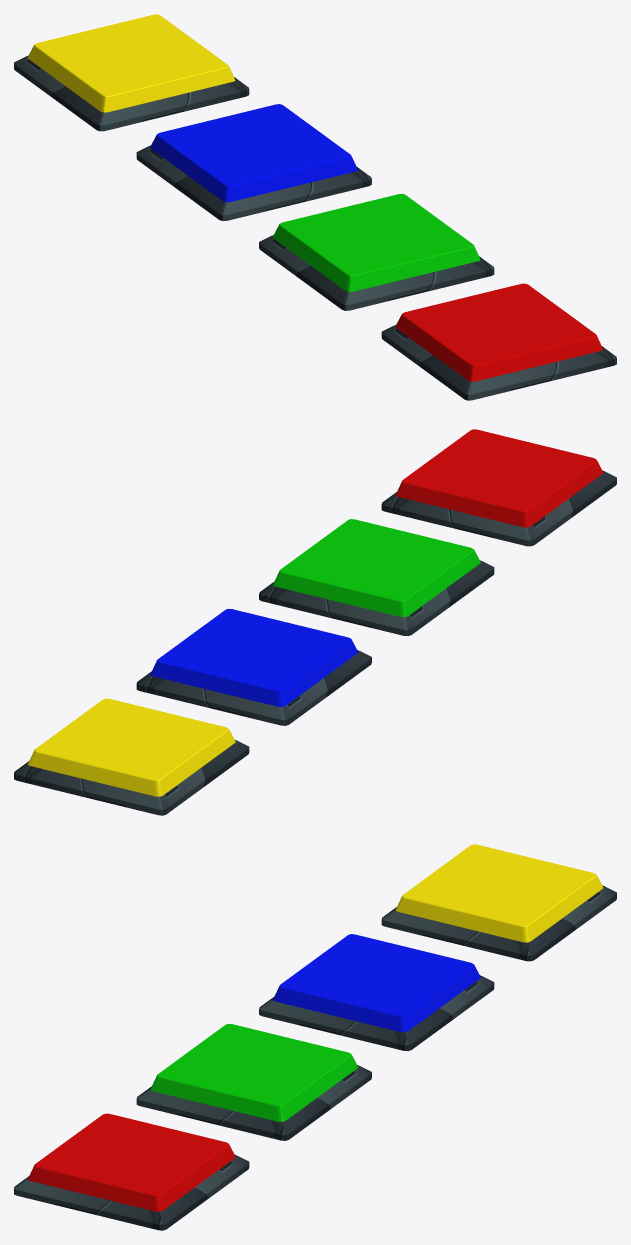
Rendered from Small blocks.fbx.
The picture shows the model from 3 angles, top to bottom: view 1: azimuth 30°, elevation 25°; view 2: azimuth 150°, elevation 25°; view 3: azimuth 330°, elevation 25°; orthographic projection.
Parts seen in each view (by area): view 1: Yellow_block, Green_block, Red_block, Blue_block; view 2: Red_block, Blue_block, Yellow_block, Green_block; view 3: Yellow_block, Green_block, Red_block, Blue_block.
Boxes of the visible parts, x1,y1,x2,y2 form: Yellow_block: (14, 14, 249, 131); Green_block: (259, 193, 494, 310); Red_block: (381, 283, 616, 400); Blue_block: (136, 104, 371, 220); Red_block: (381, 429, 616, 546); Blue_block: (136, 608, 371, 725); Yellow_block: (14, 698, 249, 815); Green_block: (259, 519, 494, 635); Yellow_block: (381, 844, 616, 961); Green_block: (136, 1023, 371, 1140); Red_block: (14, 1113, 249, 1230); Blue_block: (259, 934, 494, 1050).
Size of the model in its own units: 182 by 33.84 by 946.
1 material, 1 textured.
